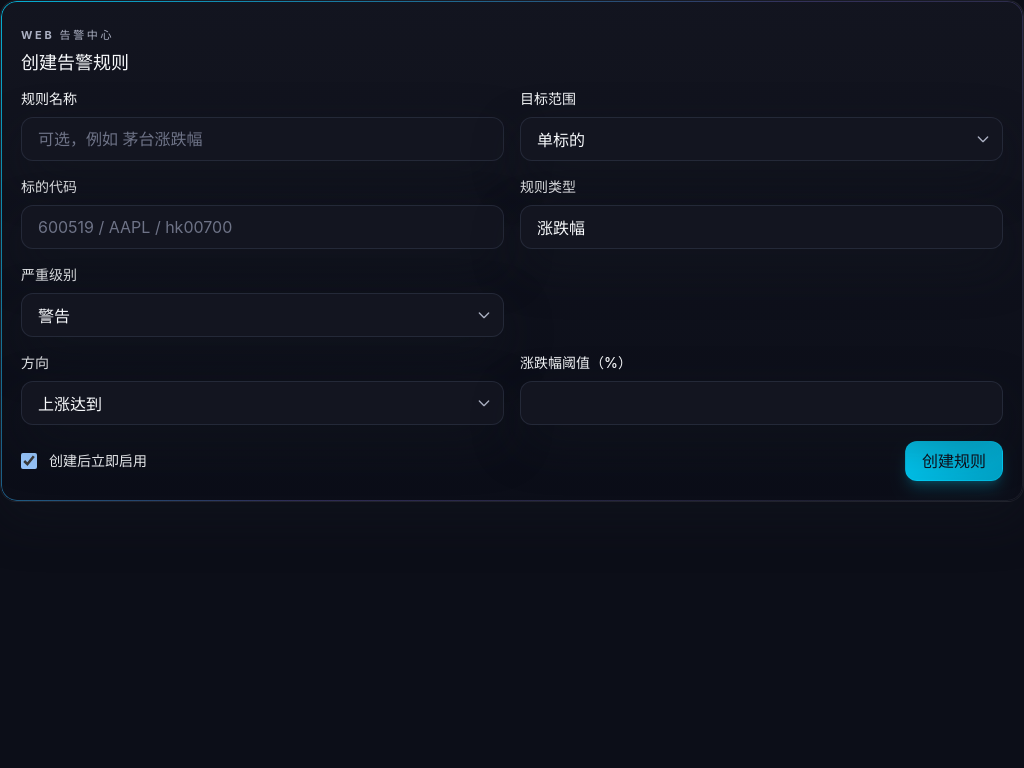
Test: AlertRuleForm › rejects invalid percentage
The width and height of the screenshot is (1024, 768).
Type "600519" into the field labelled "标的代码" at [262, 227], box [21, 205, 504, 249]
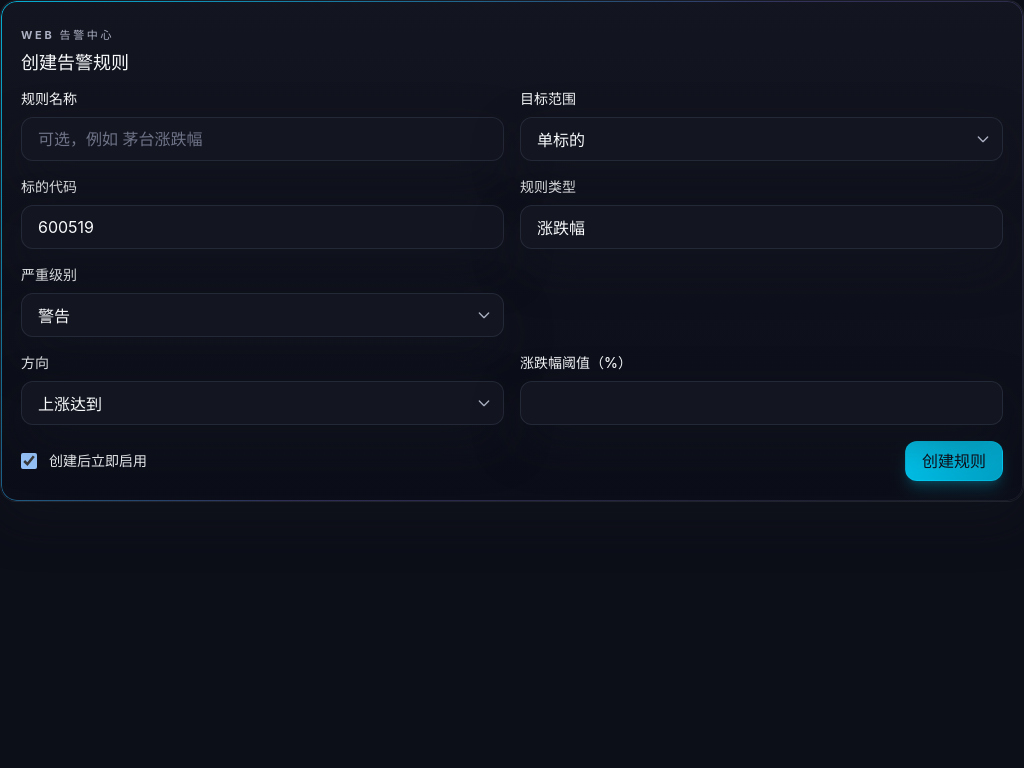
Click the button "创建规则" at [954, 461], box [905, 441, 1003, 481]
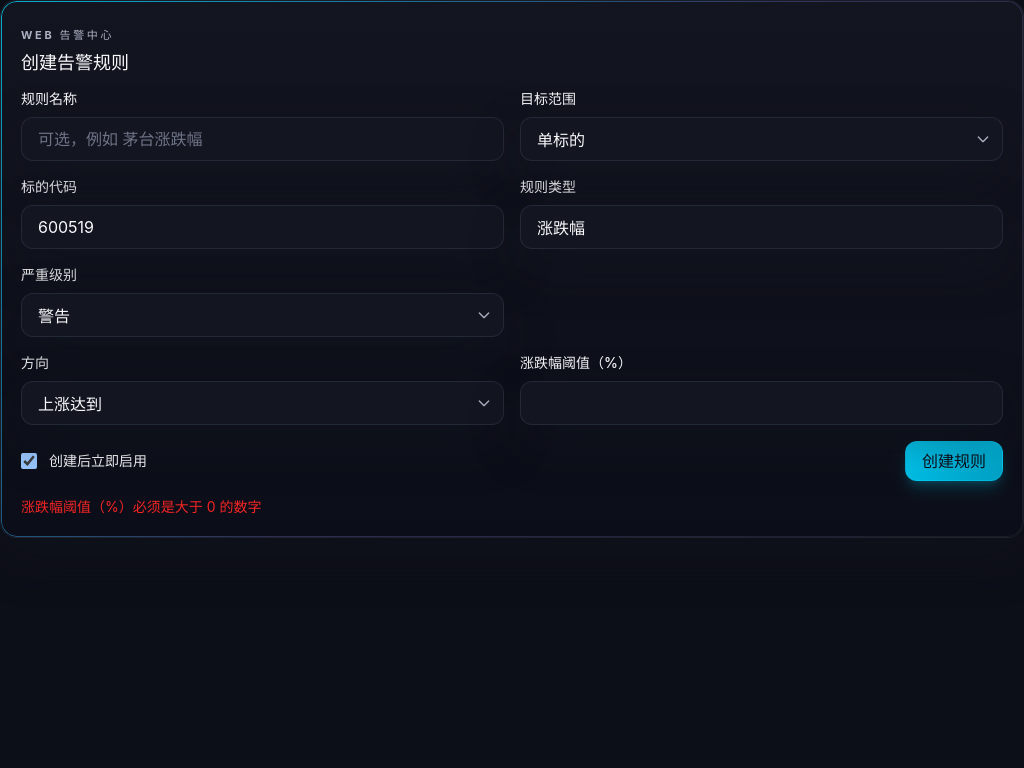
Result: the message reads "涨跌幅阈值（%）必须是大于 0 的数字" at [21, 498, 262, 515]
